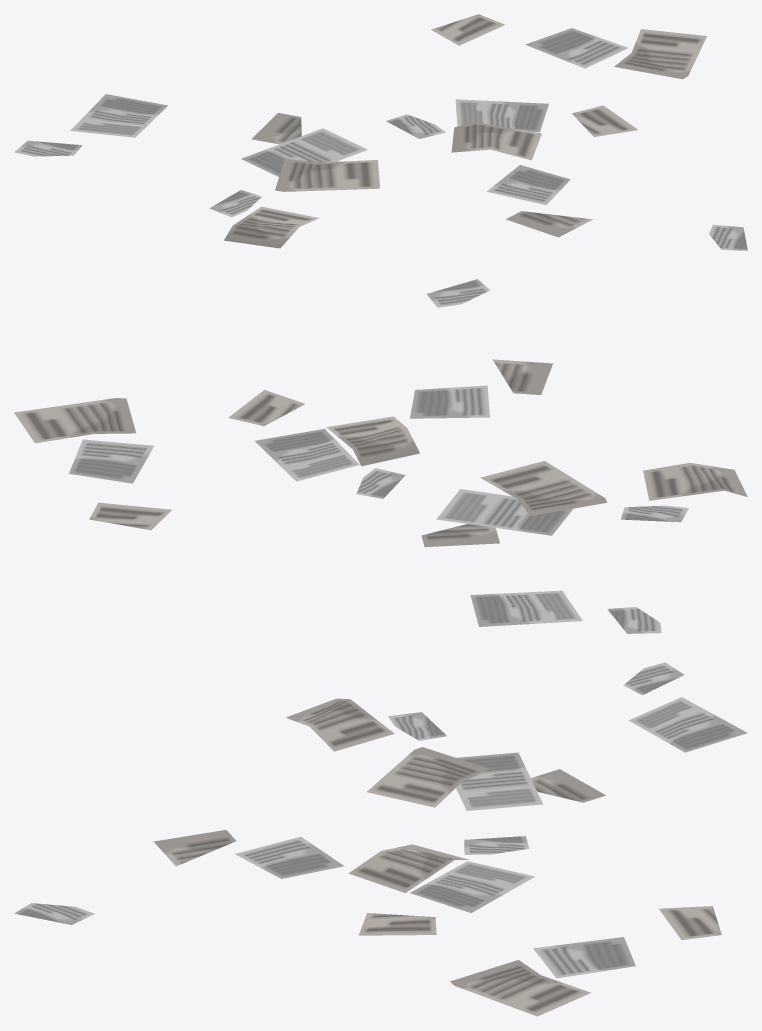
The model's file is SM_Prop_Papers_03.fbx.
3 renders of one model, top to bottom at view 1: azimuth 30°, elevation 25°; view 2: azimuth 150°, elevation 25°; view 3: azimuth 270°, elevation 25°, orthographic. The views are drawn at different scales.
Parts seen in each view (by area): view 1: SM_Prop_Papers_03; view 2: SM_Prop_Papers_03; view 3: SM_Prop_Papers_03.
Part boxes in pixels (x1,y1,x2,y2): SM_Prop_Papers_03: (14,14,747,250); SM_Prop_Papers_03: (14,279,747,633); SM_Prop_Papers_03: (14,662,747,1016).
Size of the model in its own units: 293 by 3.26 by 255.
